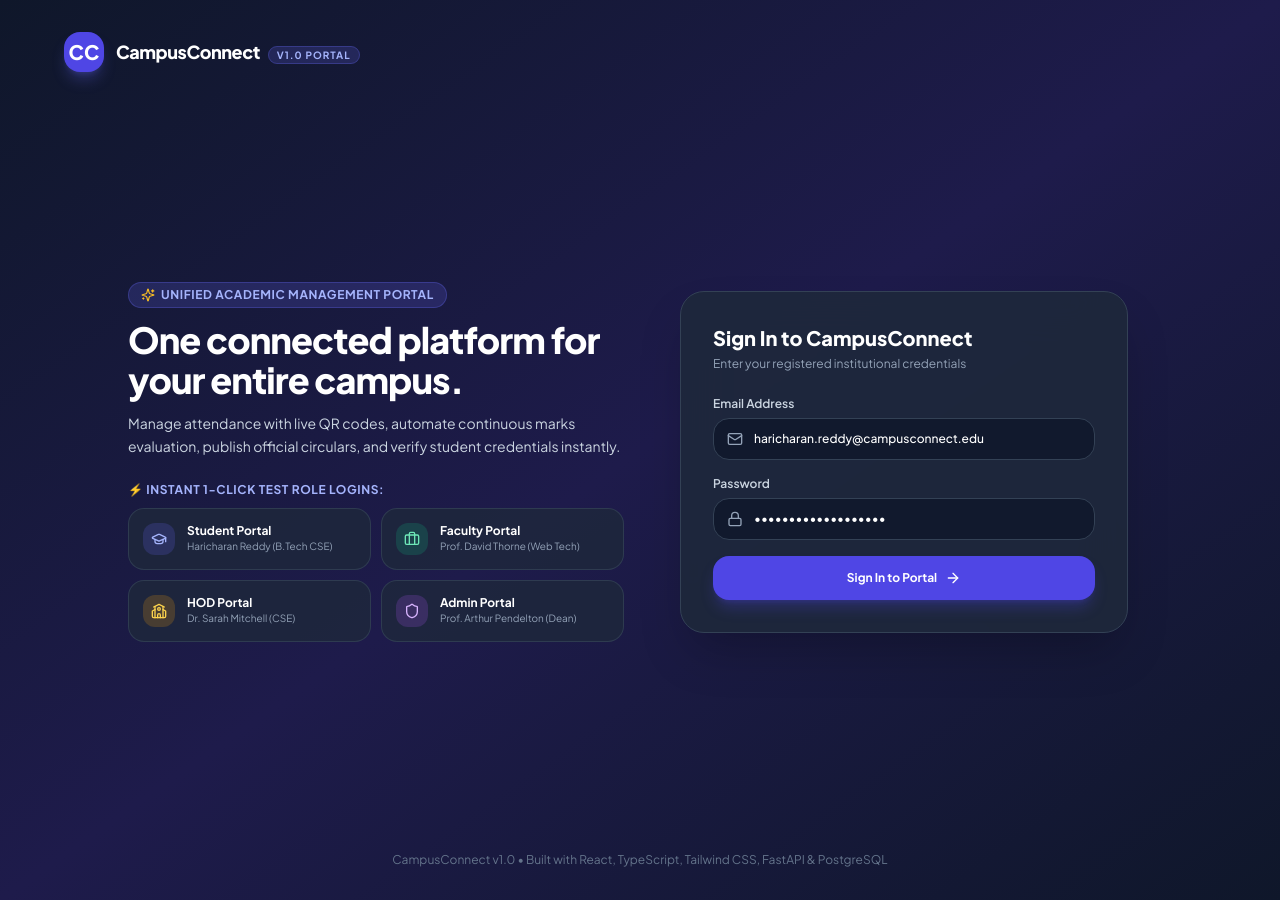
Test: CampusConnect login page › shows the backend error when login fails
Step 1. Replace the text in the field with placeholder "name@campusconnect.edu" with "wrong@example.com" → [904, 439], box [713, 418, 1095, 460]
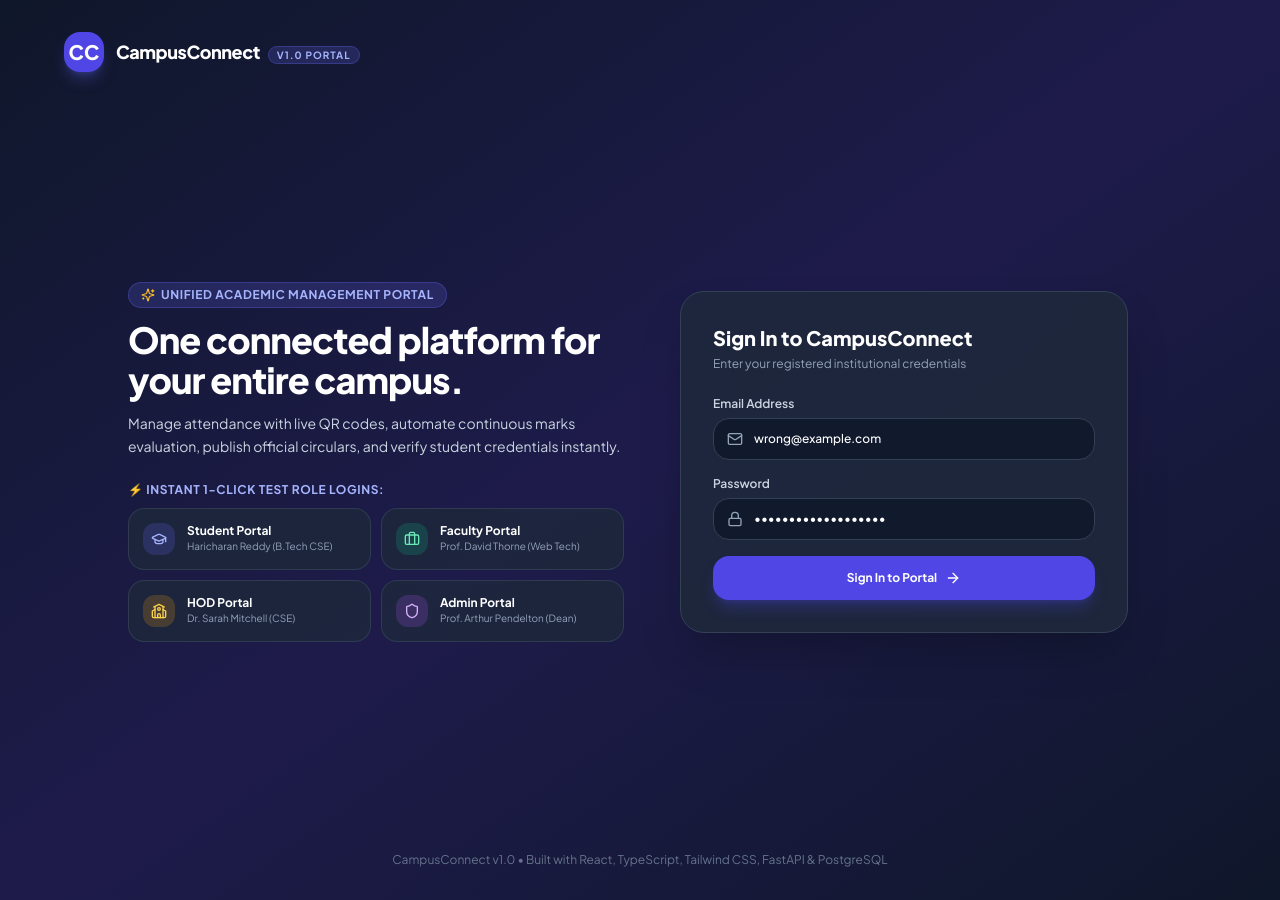
Step 2. Type "WrongPassword" into the password field with placeholder "••••••••••••" → [904, 519], box [713, 498, 1095, 540]
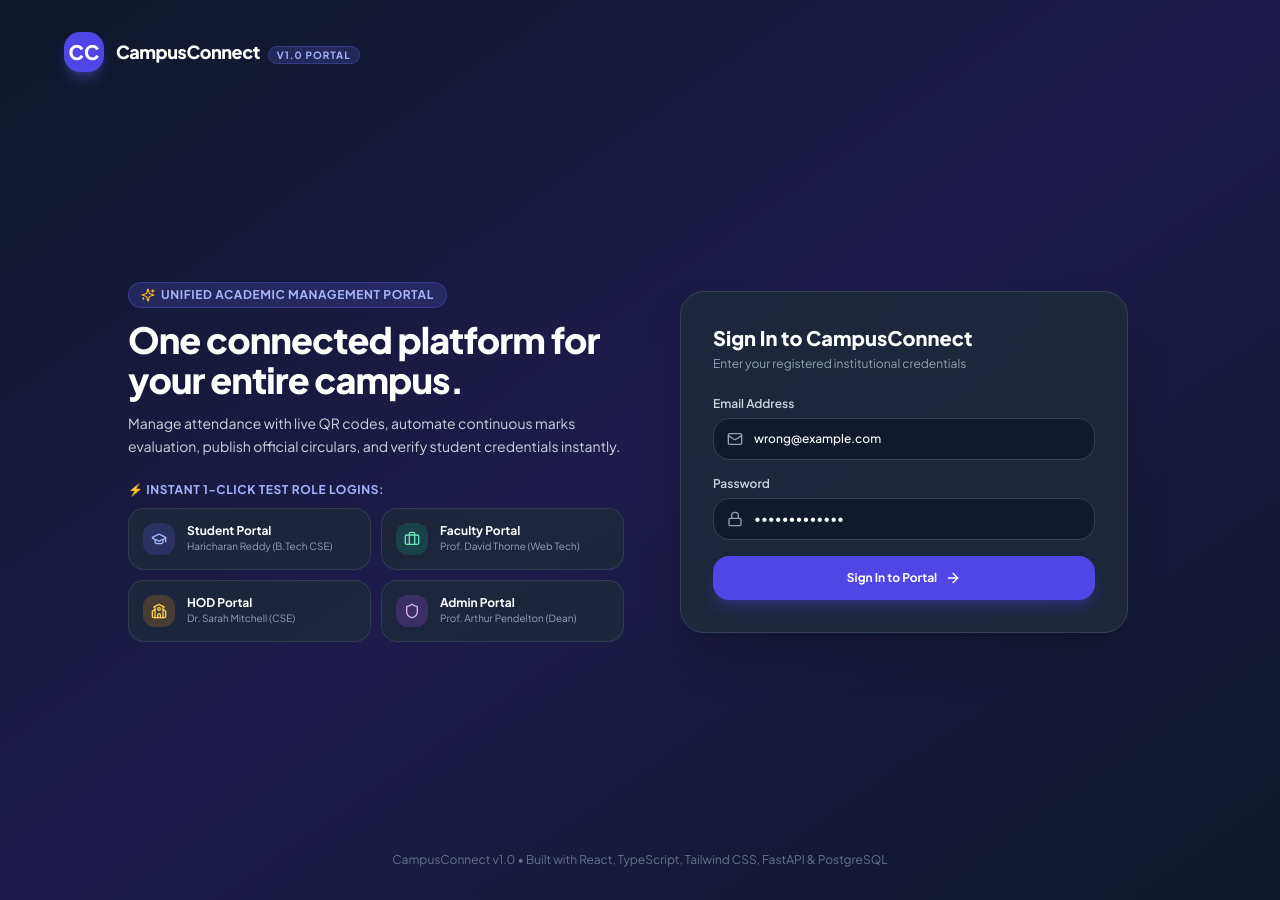
Step 3. Click the button "Sign In to Portal" → [904, 578], box [713, 556, 1095, 600]
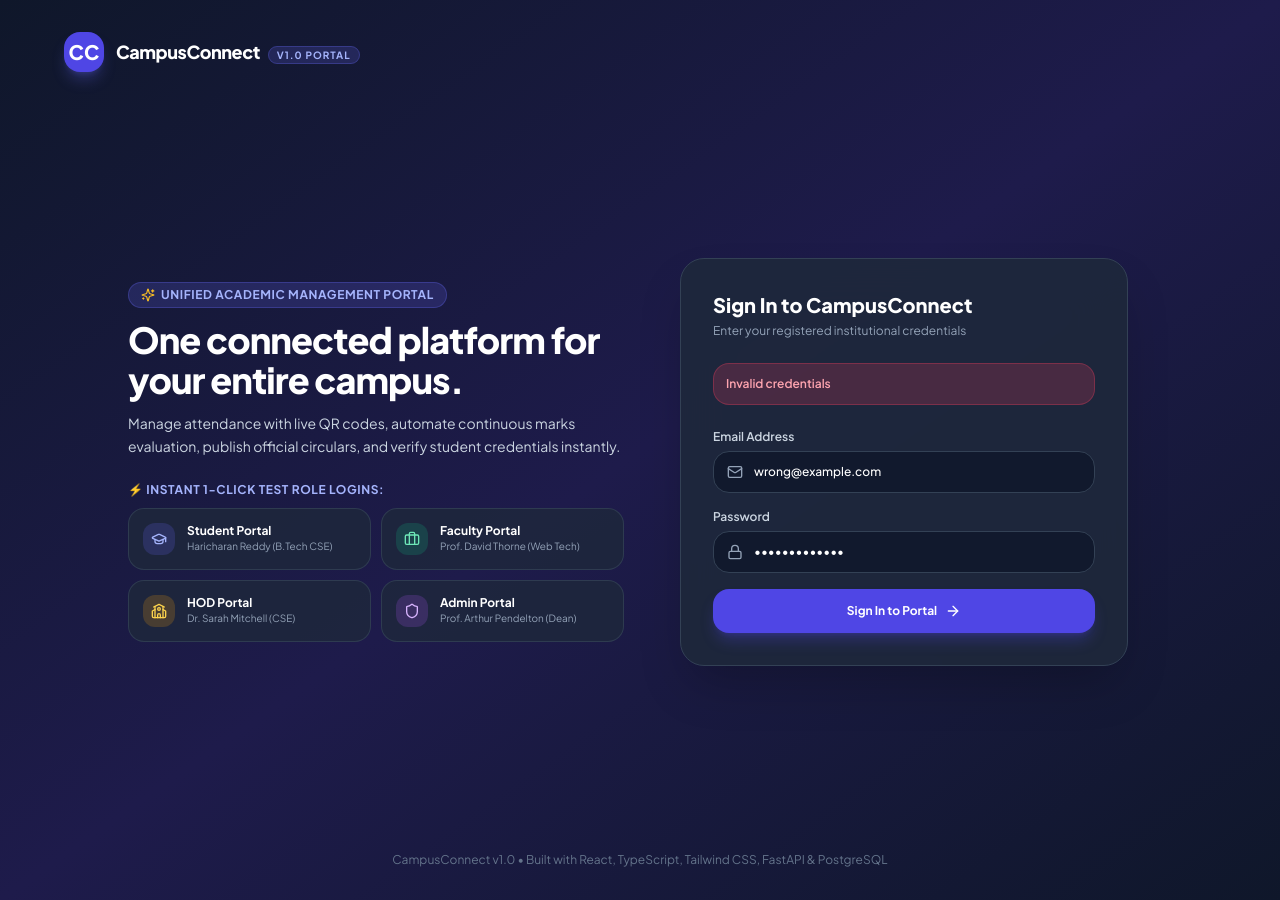
Now the text "Invalid credentials" is shown, box [713, 363, 1095, 405]
